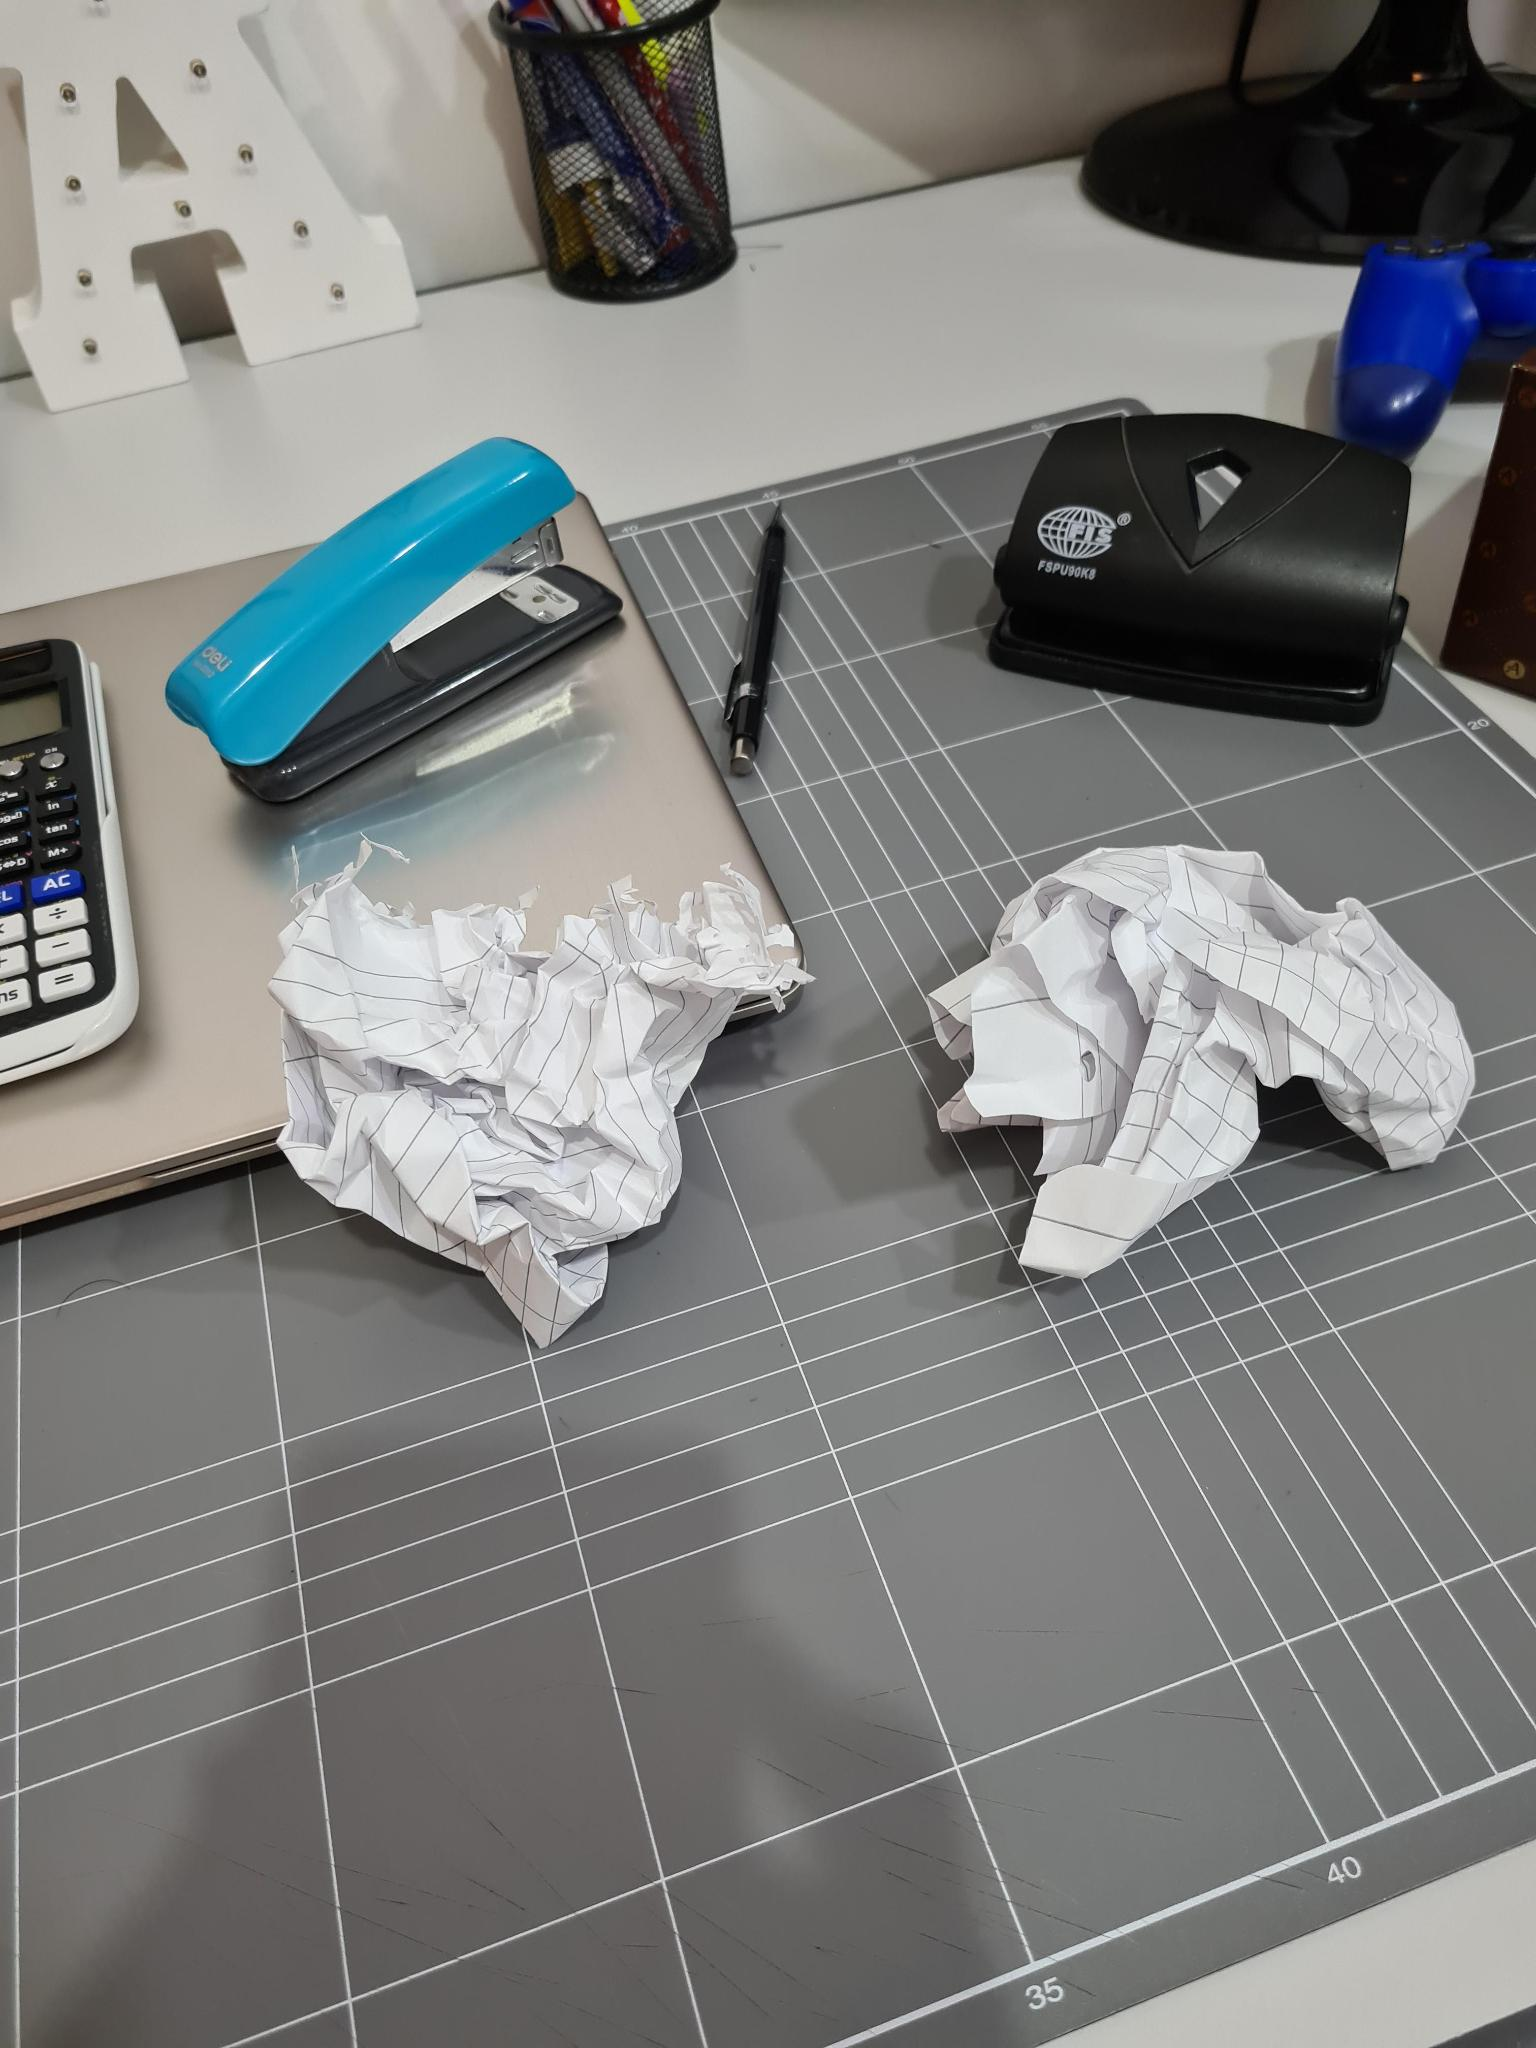metal: (492, 0, 734, 300)
paper: (273, 840, 805, 1340), (929, 847, 1471, 1274)
